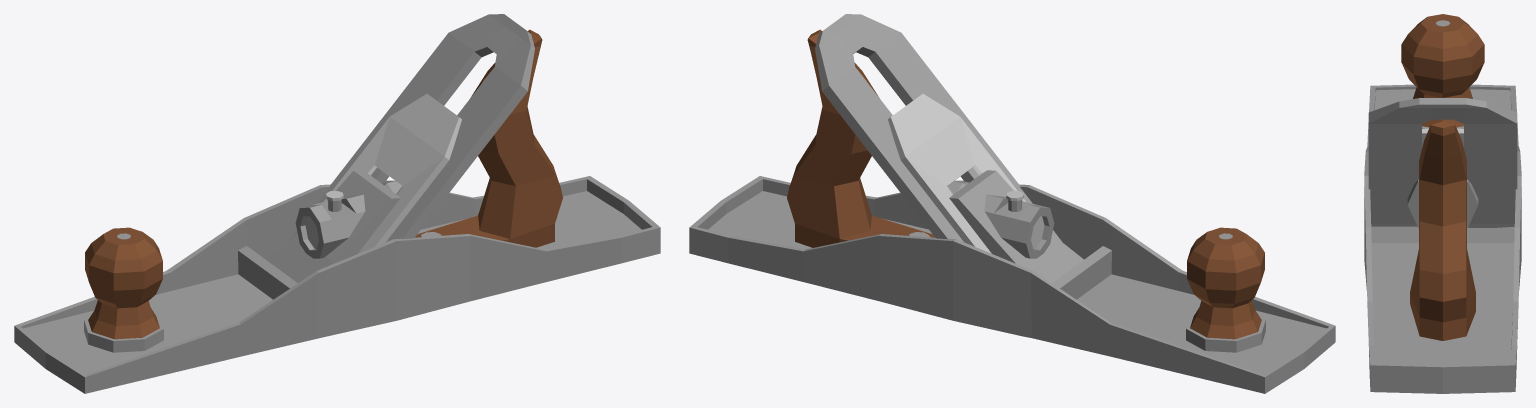
The model's file is planer01.obj.
3 renders of one model, left to right at view 1: azimuth 30°, elevation 25°; view 2: azimuth 150°, elevation 25°; view 3: azimuth 270°, elevation 25°, orthographic. The views are drawn at different scales.
Visible parts, largest first — view 1: Cylinder_Cylinder.001; view 2: Cylinder_Cylinder.001; view 3: Cylinder_Cylinder.001.
Boxes of the visible parts, <box> form: Cylinder_Cylinder.001: <box>14,14,660,393</box>; Cylinder_Cylinder.001: <box>689,14,1335,393</box>; Cylinder_Cylinder.001: <box>1364,14,1521,393</box>.
Bounding box in the file's own units: 0.2948 × 0.1124 × 0.067.
1 material, 1 textured.
